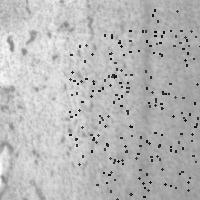pitted_surface: (19, 1, 185, 179), (1, 19, 81, 199), (75, 105, 135, 163), (69, 36, 127, 95), (69, 94, 129, 151), (102, 30, 159, 87), (137, 134, 195, 189), (152, 8, 200, 64), (148, 83, 200, 133), (90, 169, 149, 200)
